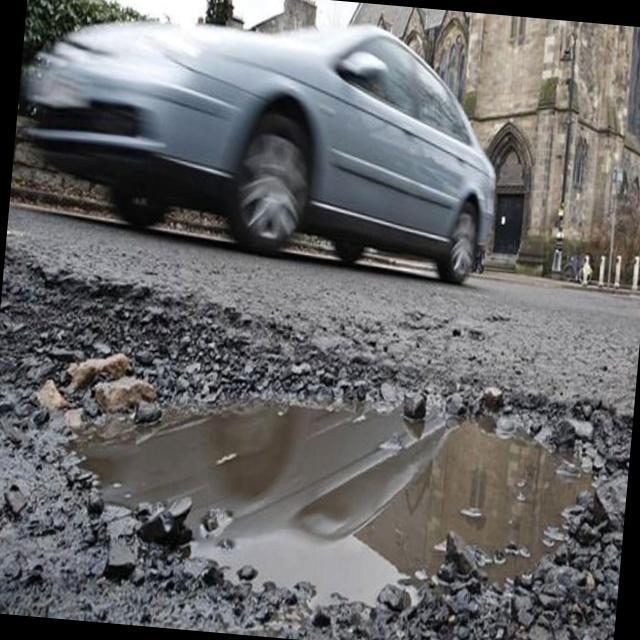Pothole: (28, 300, 638, 640)
